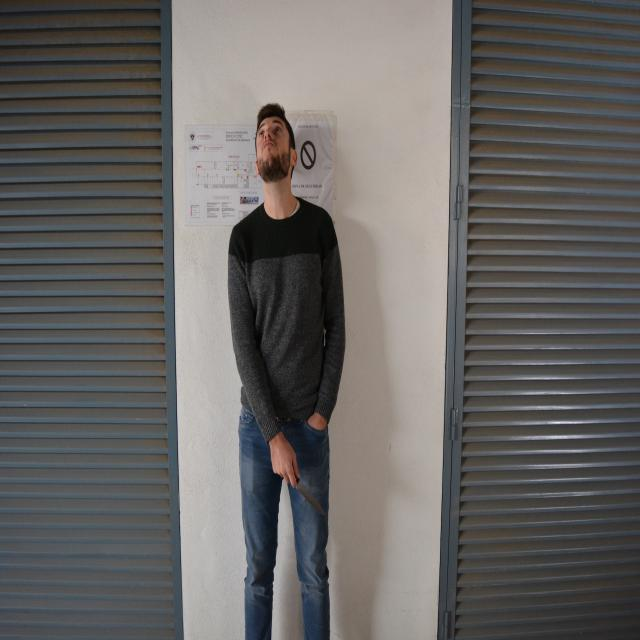knife: (297, 473, 331, 522)
